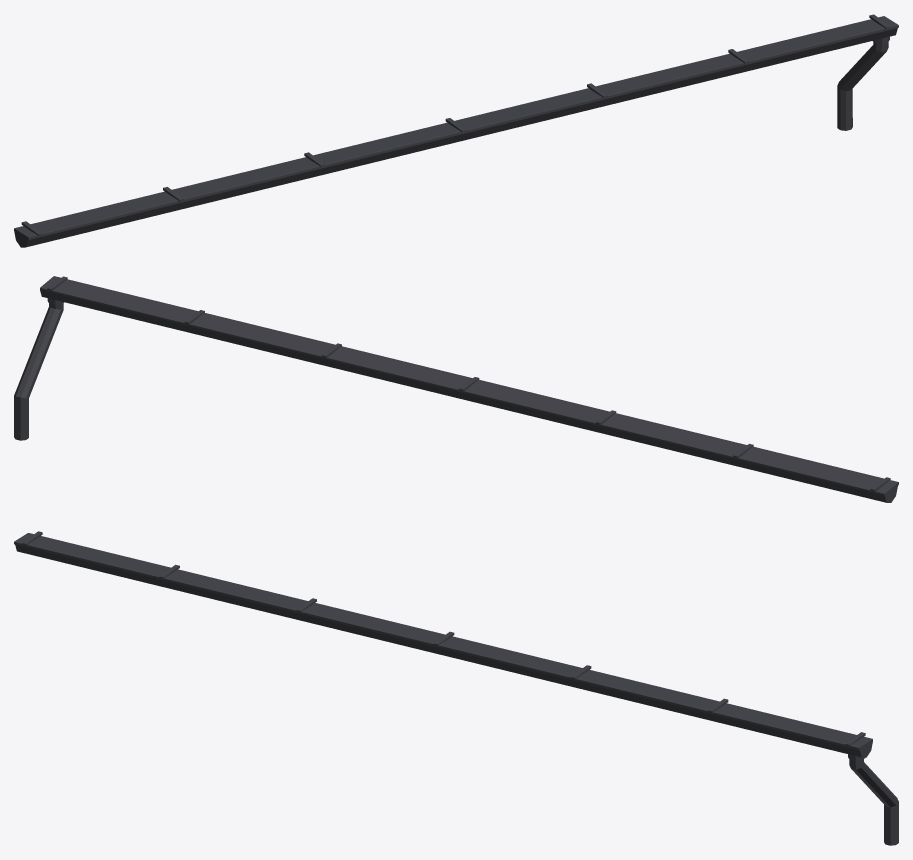
File: SM_Fixture_GutterShedFront_364_01.gltf
3 views of the same model, one above another, from view 1: azimuth 30°, elevation 25°; view 2: azimuth 150°, elevation 25°; view 3: azimuth 330°, elevation 25° (orthographic). The views are drawn at different scales.
Visible parts, largest first — view 1: SM_Fixture_GutterShedFront_364_01; view 2: SM_Fixture_GutterShedFront_364_01; view 3: SM_Fixture_GutterShedFront_364_01.
Boxes of the visible parts, bbox=[...] form: SM_Fixture_GutterShedFront_364_01: bbox=[14, 14, 898, 247]; SM_Fixture_GutterShedFront_364_01: bbox=[14, 276, 898, 502]; SM_Fixture_GutterShedFront_364_01: bbox=[14, 531, 898, 845].
Size of the model in its own units: 3.86 by 0.565 by 0.3677.
1 material, 1 textured.
